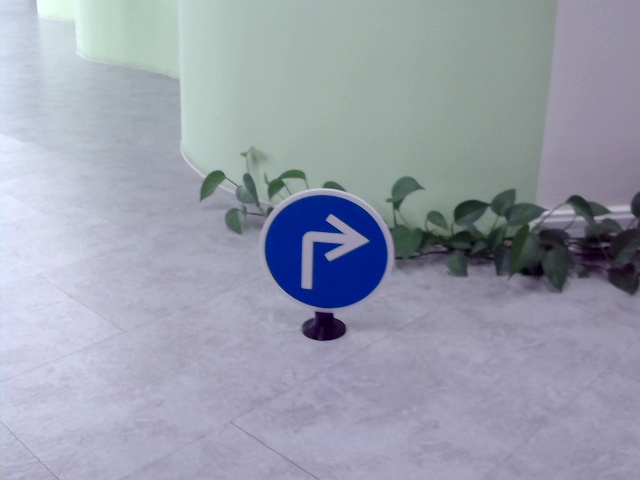turn_right: (288, 212, 367, 292)
